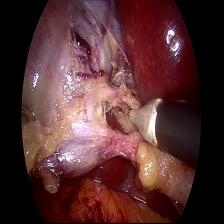Hook: (115, 94, 164, 154)
